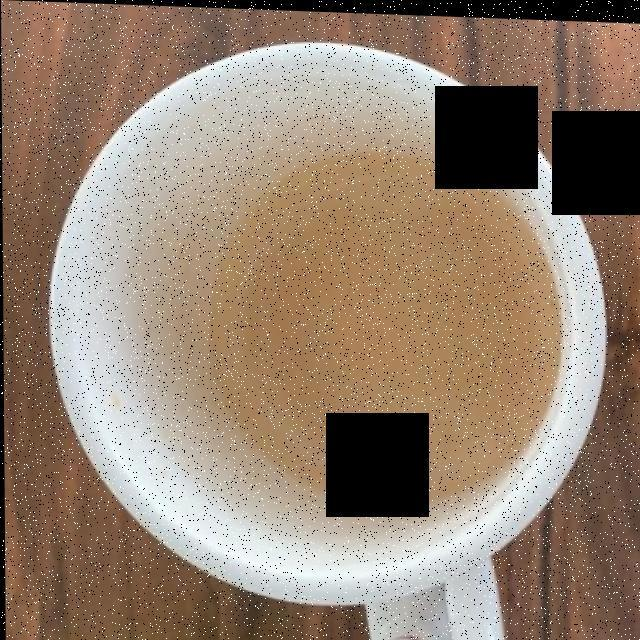coffee: (208, 146, 552, 497)
